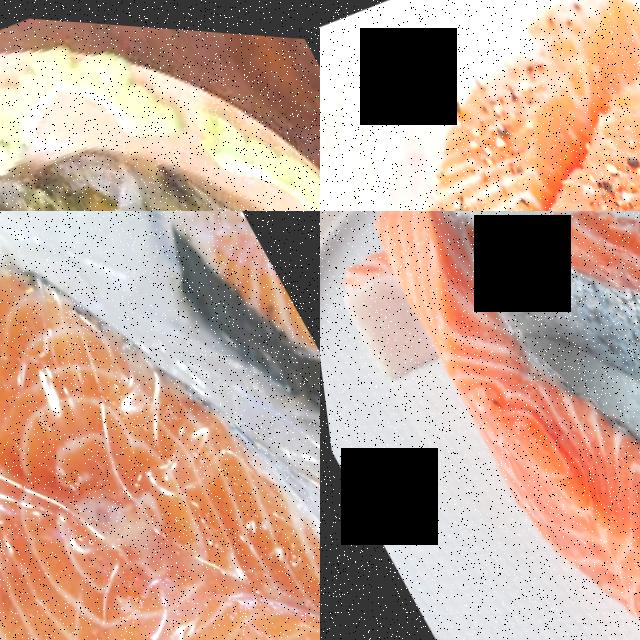salmon: (0, 211, 320, 640), (412, 274, 640, 640), (542, 211, 640, 534)
